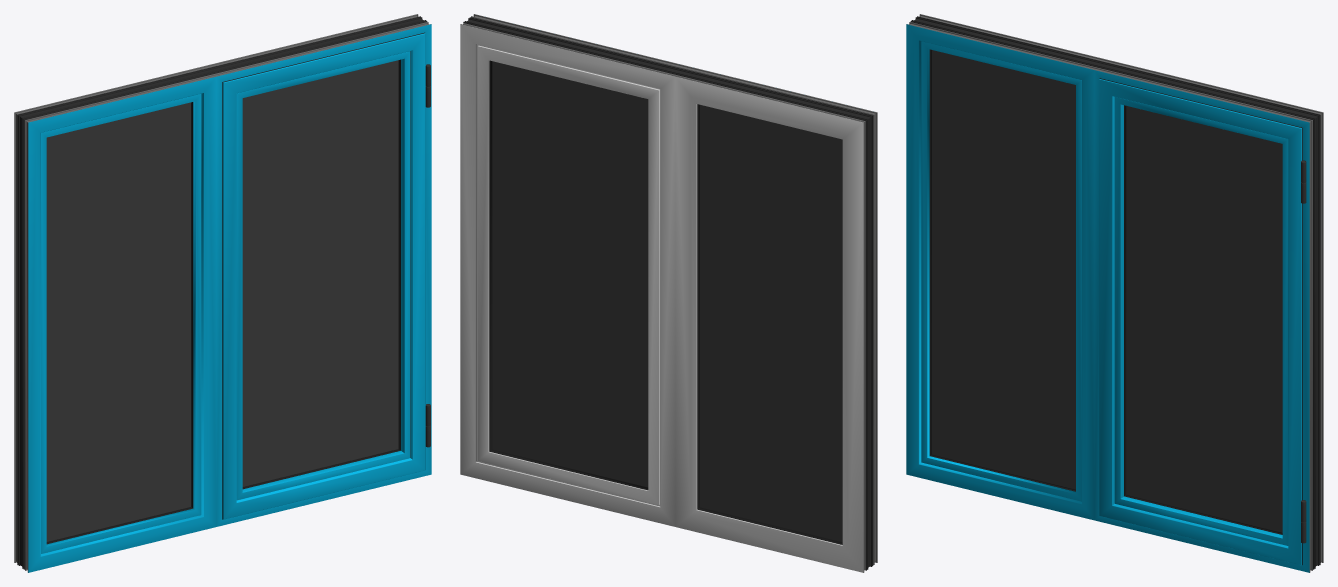
Rendered from 98_1_door.fbx.
The picture shows the model from 3 angles, left to right: view 1: azimuth 30°, elevation 25°; view 2: azimuth 150°, elevation 25°; view 3: azimuth 330°, elevation 25°; orthographic projection.
Visible parts, largest first — view 1: SM_Door_Frame_98_L_021, SM_extra_98_013, SM_Window_Frame_1_door_98_002, SM_Door_Frame_98_L_023, SM_Window_Frame_1_door_98_007, SM_Window_Frame_1_door_98_003, SM_Door_Frame_98_L_026, SM_extra_98_019; view 2: SM_Door_Frame_98_L_021, SM_extra_98_013, SM_Window_Frame_1_door_98_003, SM_Door_Frame_98_L_023, SM_Window_Frame_1_door_98_007, SM_Window_Frame_1_door_98_002, SM_Door_Frame_98_L_026, SM_extra_98_019; view 3: SM_Door_Frame_98_L_021, SM_extra_98_013, SM_Window_Frame_1_door_98_002, SM_Door_Frame_98_L_023, SM_Window_Frame_1_door_98_007, SM_Window_Frame_1_door_98_003, SM_Door_Frame_98_L_026, SM_extra_98_019.
Part boxes in pixels (box(x1,y1,x2,y2)): SM_Door_Frame_98_L_021: box(242, 60, 398, 486); SM_extra_98_013: box(46, 102, 190, 541); SM_Window_Frame_1_door_98_002: box(25, 22, 431, 572); SM_Door_Frame_98_L_023: box(223, 33, 425, 519); SM_Window_Frame_1_door_98_007: box(17, 16, 427, 569); SM_Window_Frame_1_door_98_003: box(14, 14, 418, 562); SM_Door_Frame_98_L_026: box(222, 32, 424, 519); SM_extra_98_019: box(46, 102, 193, 544); SM_Door_Frame_98_L_021: box(492, 61, 648, 487); SM_extra_98_013: box(700, 105, 842, 541); SM_Window_Frame_1_door_98_003: box(460, 23, 865, 572); SM_Door_Frame_98_L_023: box(476, 44, 660, 506); SM_Window_Frame_1_door_98_007: box(463, 17, 873, 570); SM_Window_Frame_1_door_98_002: box(471, 14, 877, 564); SM_Door_Frame_98_L_026: box(489, 60, 648, 490); SM_extra_98_019: box(697, 104, 842, 544); SM_Door_Frame_98_L_021: box(1126, 106, 1282, 532); SM_extra_98_013: box(932, 50, 1075, 489); SM_Window_Frame_1_door_98_002: box(906, 22, 1312, 572); SM_Door_Frame_98_L_023: box(1099, 79, 1301, 565); SM_Window_Frame_1_door_98_007: box(910, 16, 1320, 569); SM_Window_Frame_1_door_98_003: box(919, 14, 1323, 562); SM_Door_Frame_98_L_026: box(1099, 78, 1302, 564); SM_extra_98_019: box(929, 49, 1075, 491).
Bounding box in the file's own units: 150 × 160 × 10.69.
